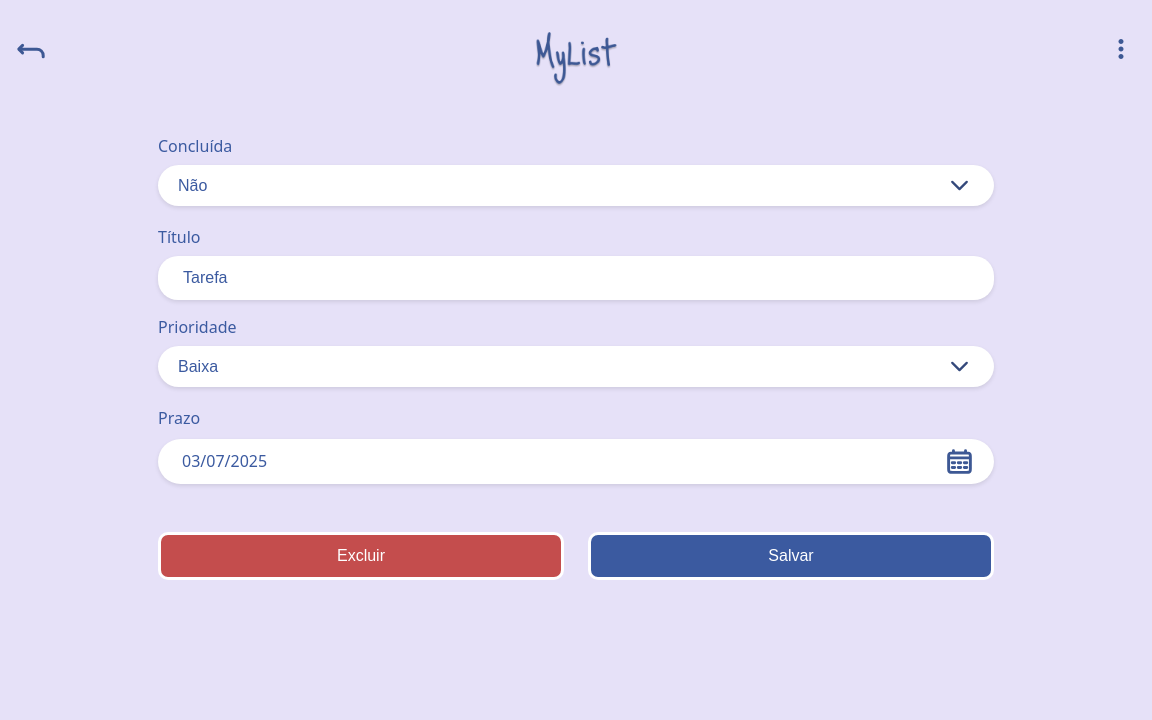
Test: EditTask › shows error on submit fail
The image size is (1152, 720).
Expected: the field labelled "Título" is shown, top-left (158, 256), bottom-right (994, 300)
Click the button "Salvar" at (791, 556), box top-left (588, 532), bottom-right (994, 580)
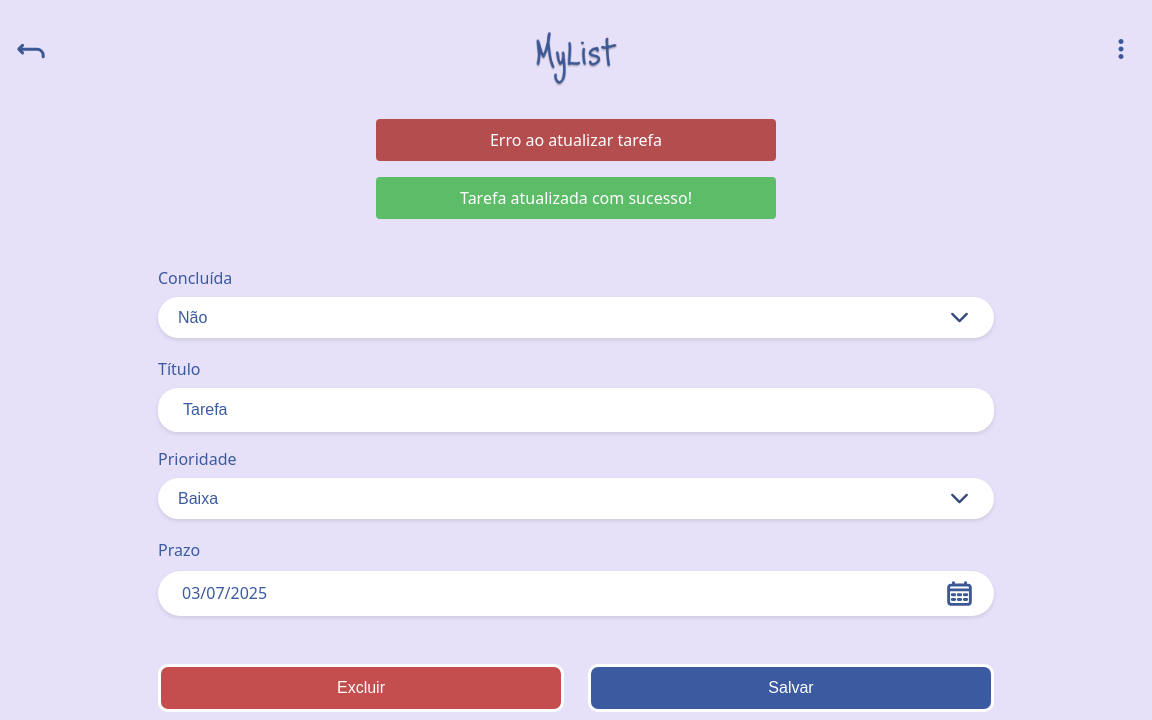
Expected: the button "Salvando..." is shown, top-left (588, 664), bottom-right (994, 712)
Expected: the text "Erro ao atualizar tarefa" is shown, top-left (376, 119), bottom-right (776, 161)
